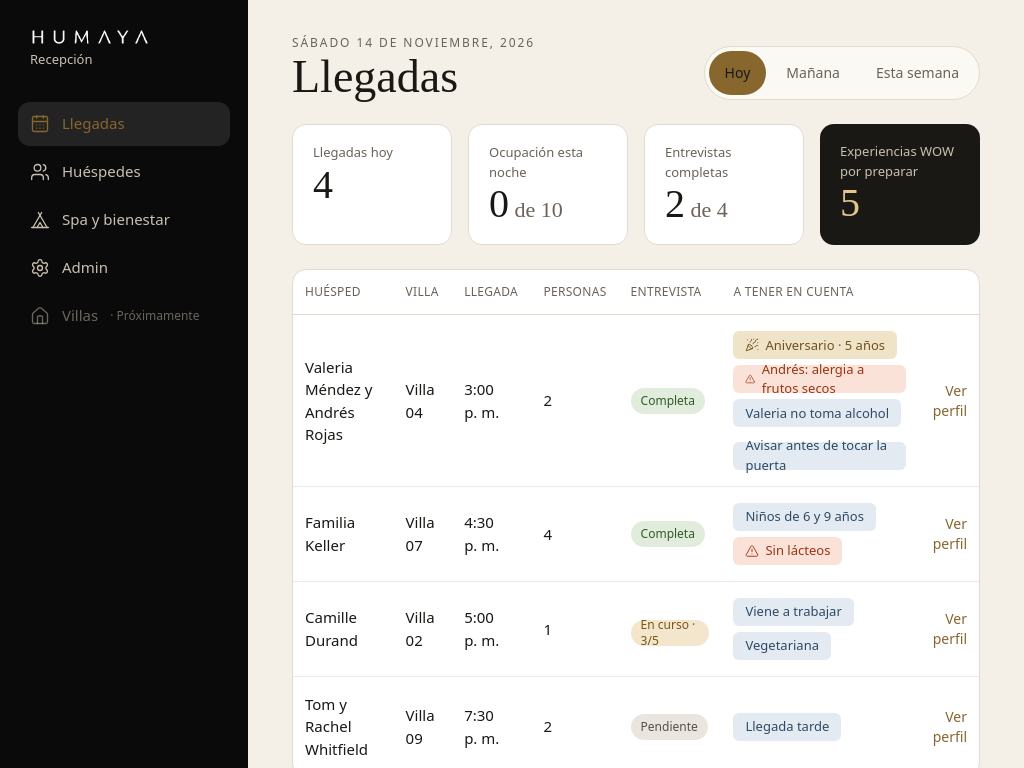
Test: filtro de período › la semana trae las 9 llegadas
Step 1. Click the radio button labelled "Esta semana" → coordinates (917, 73), box 860,51 -> 975,95
(page scrolled)
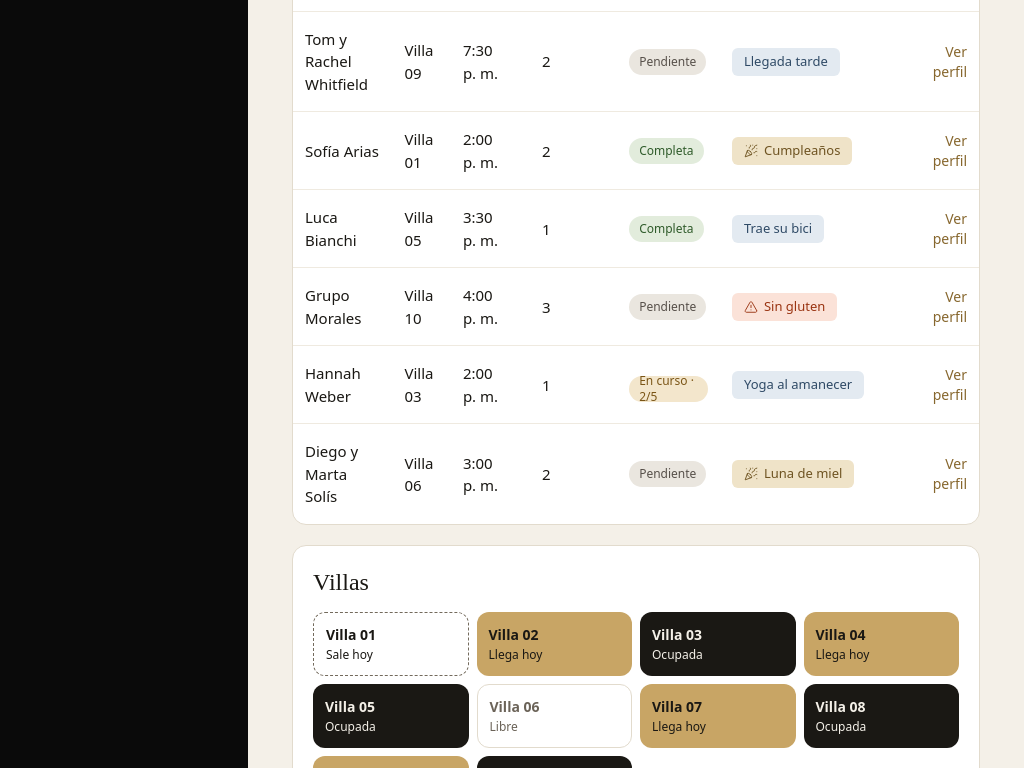
Now the text "Hannah Weber" is shown, box 305,363 -> 361,406
Now the number of rows is 10
